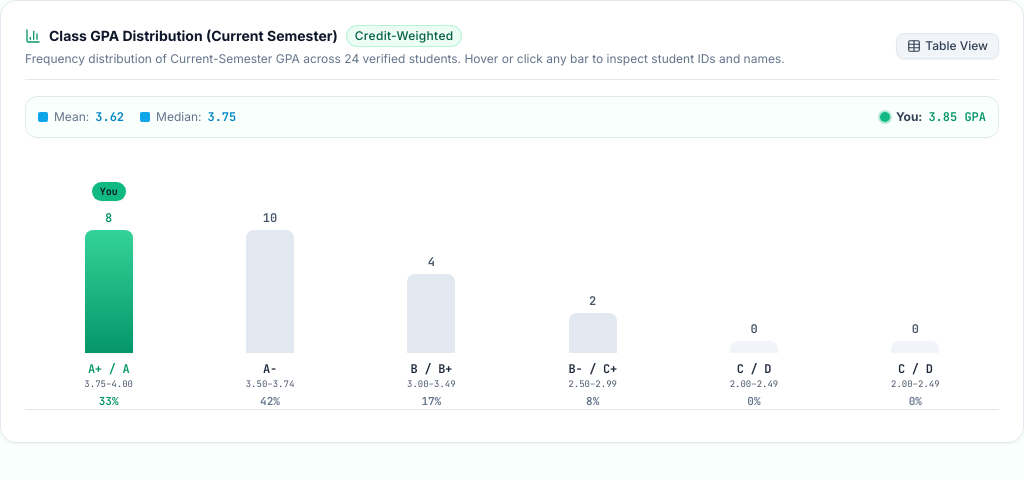
Test case: ResultDashboard Component Tests › renders GPADistributionChart with brackets and table view toggle
expect the heading "Class GPA Distribution (Current Semester)" is shown: met, box [49, 26, 338, 46]
expect the text "3.75" is shown: met, box [207, 109, 236, 125]
# Toggle table view
Click the button "Table View".
click(948, 46)  # box [896, 33, 999, 59]
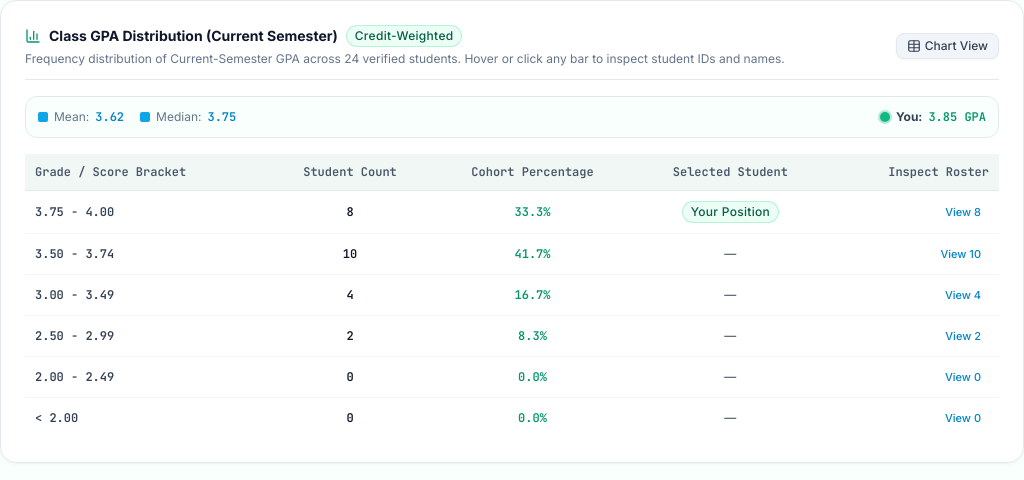
expect the column heading "Grade / Score Bracket" is shown: met, box [25, 154, 269, 190]
expect the column heading "Cohort Percentage" is shown: met, box [431, 154, 634, 190]
